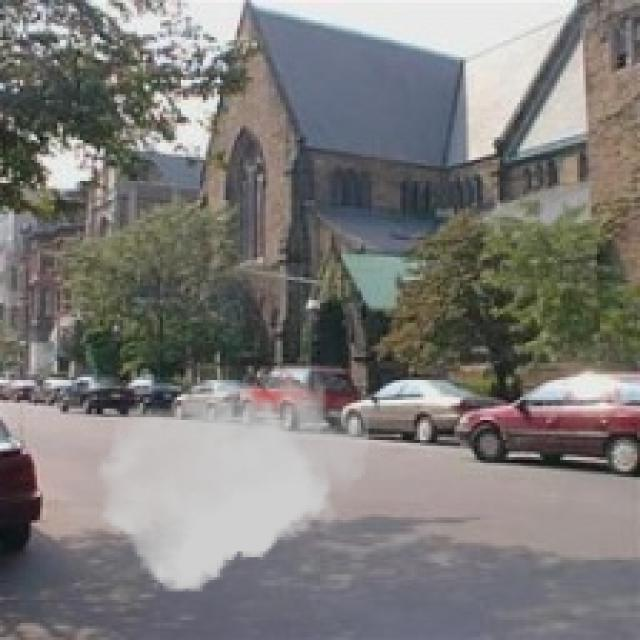smoke: (97, 363, 369, 591)
